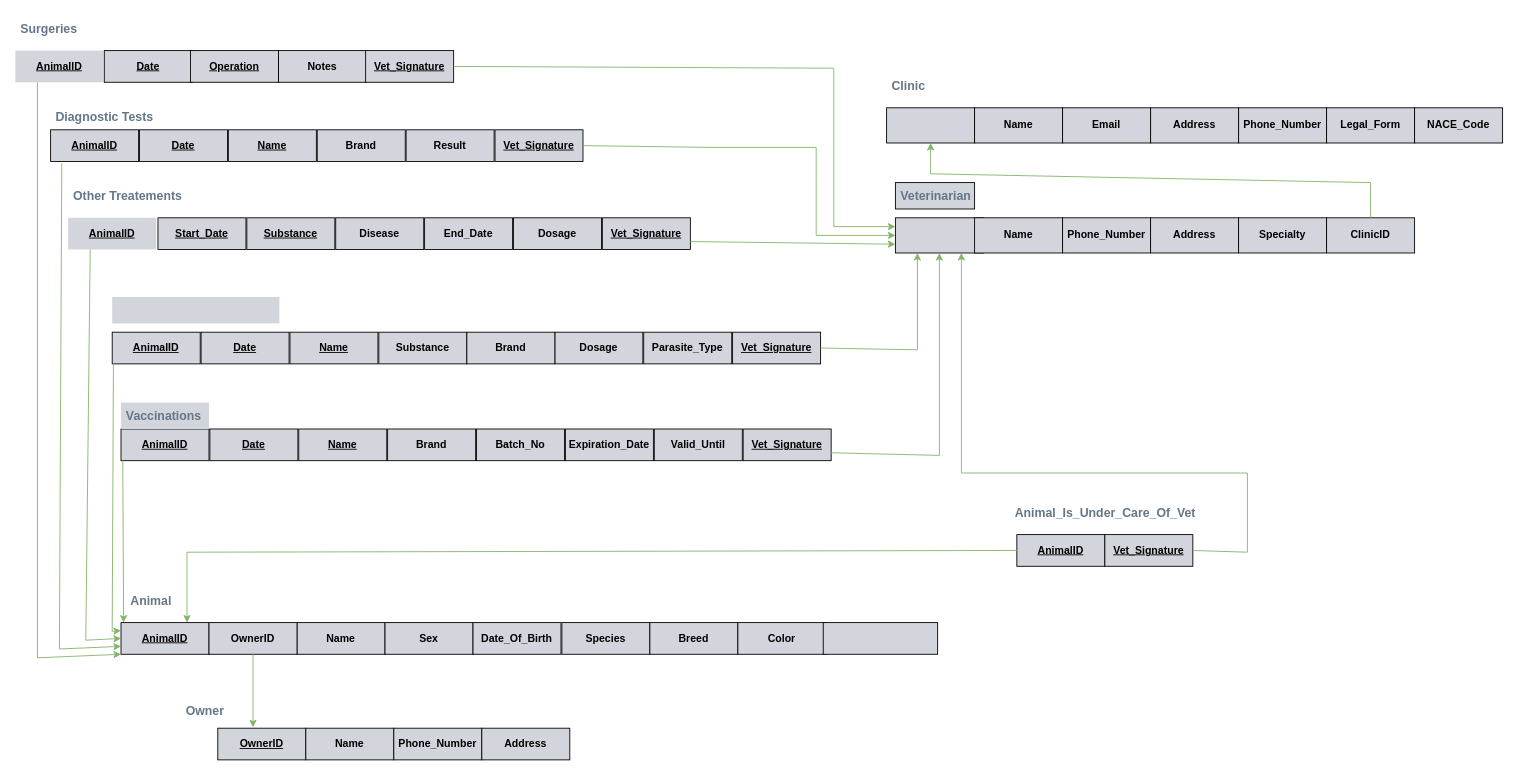
Image size: 1518x775. Some labels were removed from this diagram. The shapes that lost their labels are listed below. From the top down, each one's centre as x and y in pixels, then its label:
point 930,125: TaxID
point 939,235: Signature
point 195,310: Antiparasitic Treatements
point 880,638: Distinquishing_Marks
